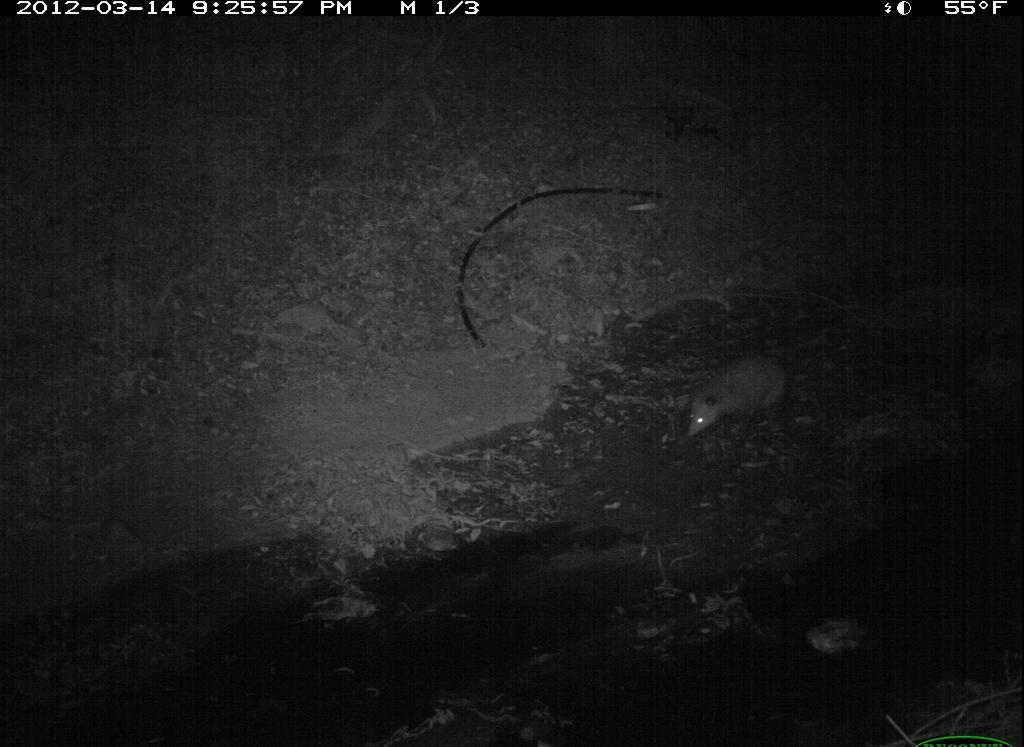opossum: (674, 336, 807, 451)
